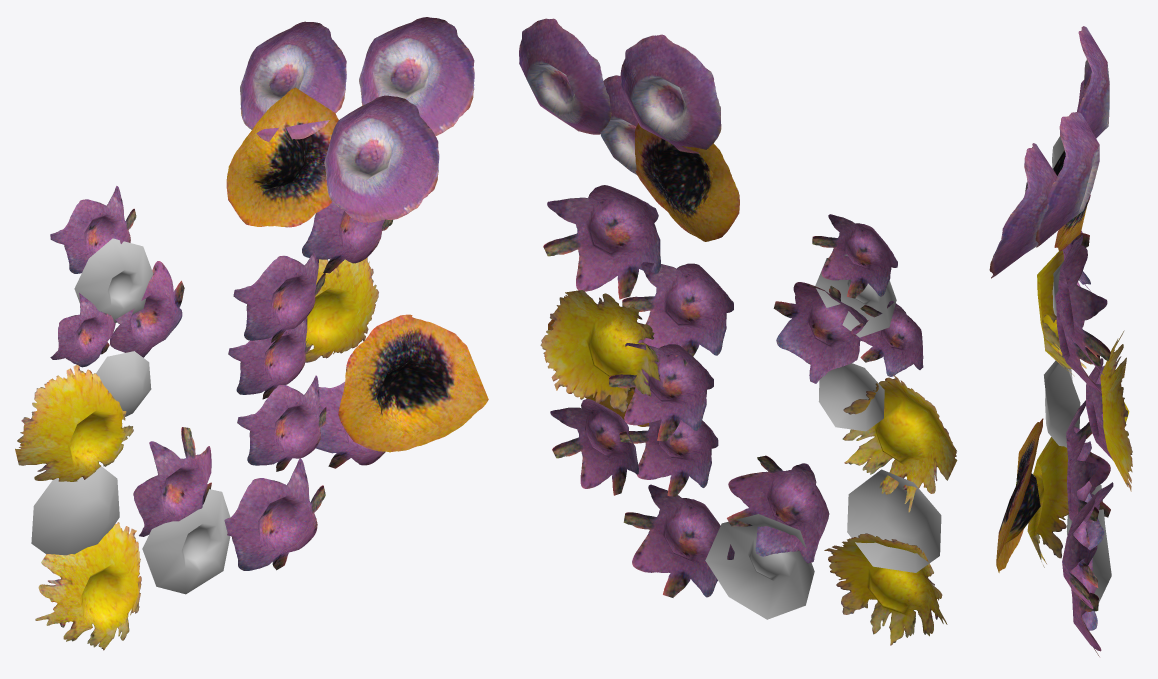
The model's file is Left_Flower2.fbx.
3 renders of one model, left to right at view 1: azimuth 30°, elevation 25°; view 2: azimuth 150°, elevation 25°; view 3: azimuth 270°, elevation 25°, orthographic. The views are drawn at different scales.
Visible parts, largest first — view 1: Circle.843, Circle.970, Circle.971, Circle.969, Circle.813, Circle.812, Circle.968, Circle.821, Circle.831, Circle.837, Circle.814, Circle.824 (+10 smaller); view 2: Circle.814, Circle.968, Circle.815, Circle.813, Circle.971, Circle.969, Circle.831, Circle.812, Circle.821, Circle.816, Circle.826, Circle.837 (+9 smaller); view 3: Circle.969, Circle.970, Circle.812, Circle.815, Circle.843, Circle.814, Circle.825, Circle.968, Circle.837, Circle.813, Circle.824, Circle.816 (+6 smaller).
Part boxes in pixels (left/top/right/bottom): Circle.843: left=338, top=314, right=488, bottom=452; Circle.970: left=324, top=95, right=439, bottom=222; Circle.971: left=226, top=87, right=338, bottom=227; Circle.969: left=359, top=17, right=474, bottom=135; Circle.813: left=15, top=365, right=133, bottom=481; Circle.812: left=35, top=522, right=141, bottom=650; Circle.968: left=240, top=21, right=346, bottom=141; Circle.821: left=224, top=458, right=325, bottom=570; Circle.831: left=142, top=489, right=230, bottom=594; Circle.837: left=31, top=466, right=119, bottom=555; Circle.814: left=305, top=257, right=378, bottom=362; Circle.824: left=237, top=375, right=326, bottom=471; Circle.814: left=540, top=290, right=660, bottom=412; Circle.968: left=620, top=34, right=721, bottom=153; Circle.815: left=543, top=185, right=660, bottom=299; Circle.813: left=842, top=374, right=957, bottom=512; Circle.971: left=635, top=123, right=739, bottom=241; Circle.969: left=519, top=18, right=611, bottom=134; Circle.831: left=705, top=514, right=814, bottom=619; Circle.812: left=824, top=533, right=947, bottom=645; Circle.821: left=623, top=484, right=734, bottom=597; Circle.816: left=622, top=262, right=733, bottom=366; Circle.826: left=727, top=455, right=829, bottom=563; Circle.837: left=847, top=469, right=941, bottom=572; Circle.969: left=1035, top=112, right=1099, bottom=247; Circle.970: left=989, top=143, right=1057, bottom=278; Circle.812: left=1027, top=437, right=1068, bottom=567; Circle.815: left=1058, top=235, right=1110, bottom=376; Circle.843: left=996, top=418, right=1043, bottom=572; Circle.814: left=1100, top=330, right=1132, bottom=491; Circle.825: left=1062, top=482, right=1113, bottom=608; Circle.968: left=1078, top=26, right=1109, bottom=138; Circle.837: left=1044, top=354, right=1080, bottom=447; Circle.813: left=1037, top=250, right=1086, bottom=376; Circle.824: left=1067, top=434, right=1098, bottom=547; Circle.816: left=1055, top=290, right=1101, bottom=393.
Size of the model in its own units: 59.81 by 73.53 by 15.42.
